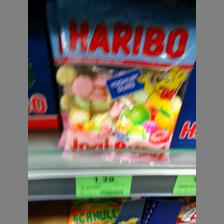Suessigkeit: (57, 1, 195, 163)
